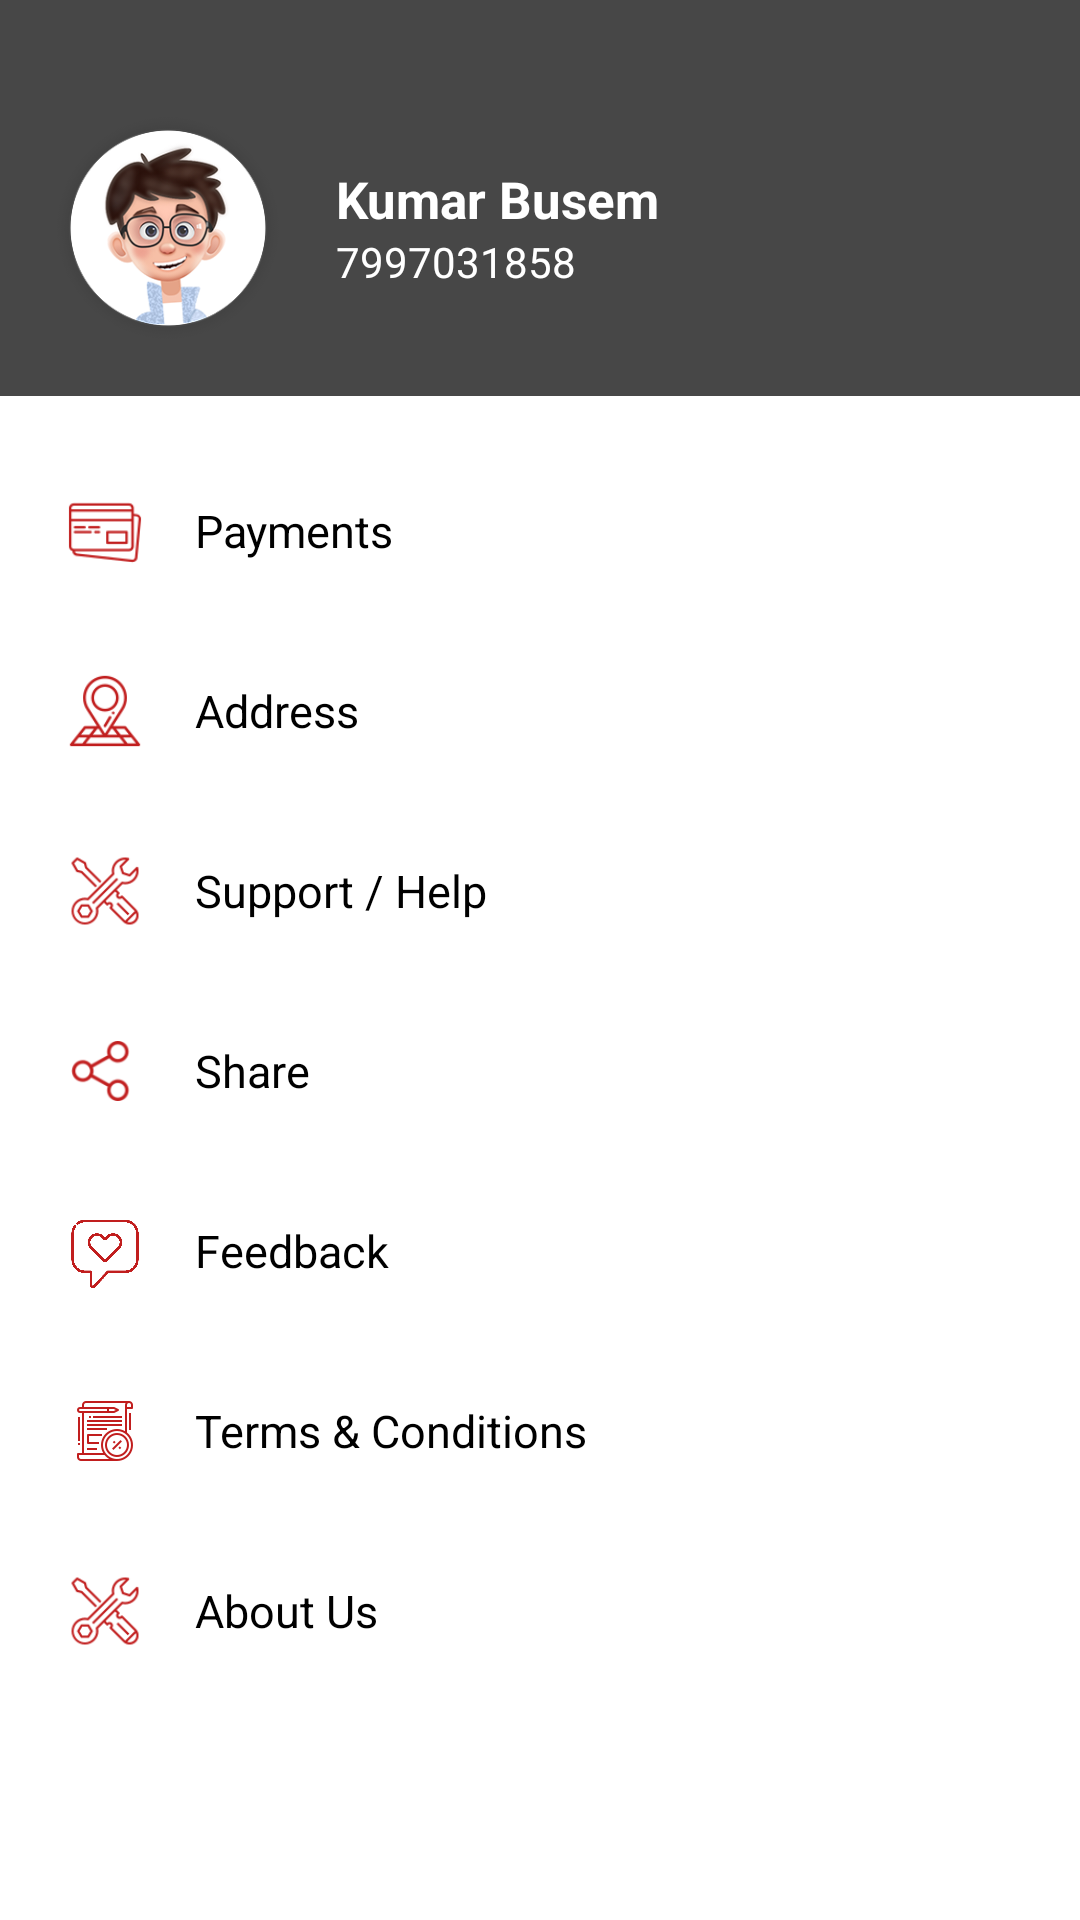

Where icons sit on this 1080×1920 app screen, as box(x1, y1, x2, y2):
credit card: box(69, 503, 141, 563)
customer support: box(71, 857, 139, 925), box(71, 1577, 139, 1645)
love: box(71, 1220, 139, 1288)
profile menu: box(70, 130, 266, 326)
